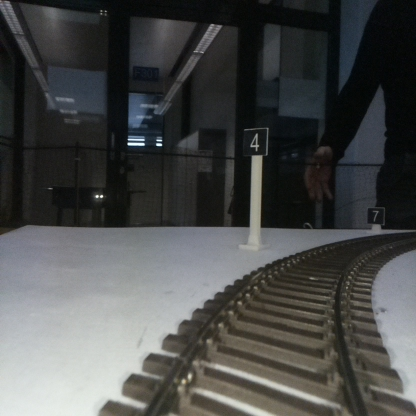black-info-4: (244, 127, 267, 248)
black-stop-7: (367, 207, 384, 230)
